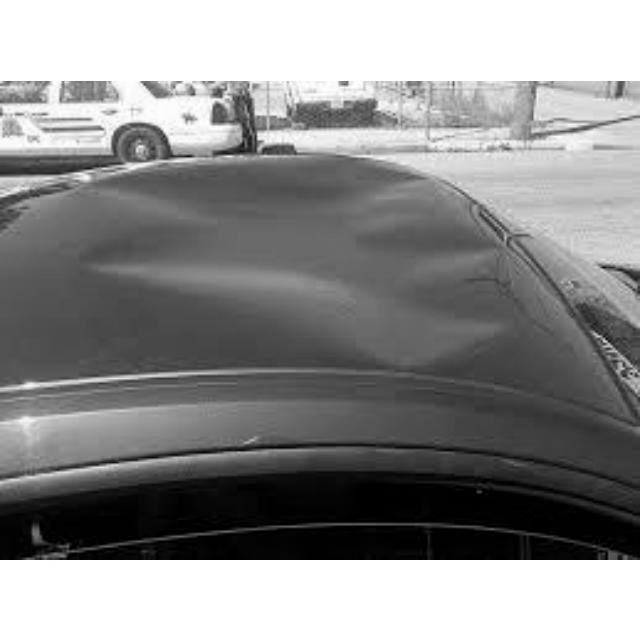roof-dent: (10, 147, 635, 441)
